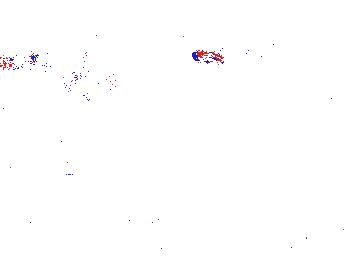X-ray fish: (57, 52, 117, 103)
red belly glassfish: (188, 44, 250, 65), (1, 48, 39, 72)
redtail glassfish: (197, 3, 273, 39), (291, 77, 345, 111), (305, 20, 346, 51)
